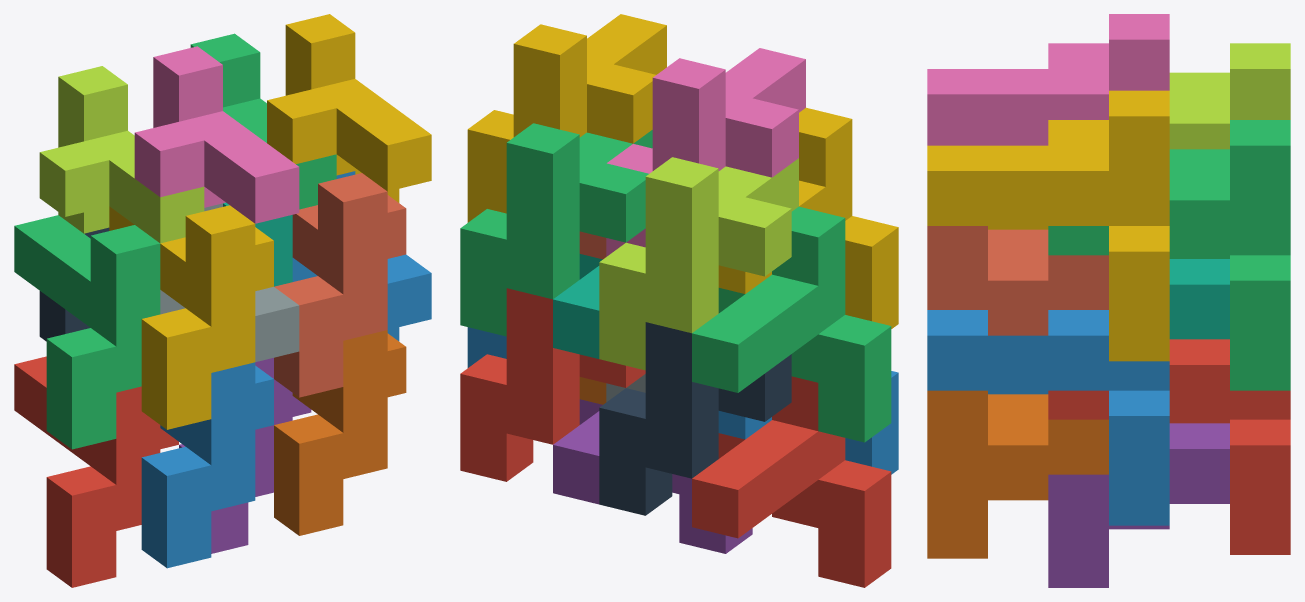
The model's file is tiling.obj.
3 renders of one model, left to right at view 1: azimuth 30°, elevation 25°; view 2: azimuth 150°, elevation 25°; view 3: azimuth 270°, elevation 25°, orthographic. The views are drawn at different scales.
Visible parts, largest first — view 1: copy_1_domain_3, copy_1_domain_4, copy_1_domain_8, copy_2_domain_8, copy_2_domain_4, copy_1_domain_2, copy_1_domain_6, copy_1_domain_1, copy_2_domain_3, copy_2_domain_7, copy_1_domain_5, copy_2_domain_6 (+3 smaller); view 2: copy_2_domain_3, copy_1_domain_3, copy_2_domain_7, copy_1_domain_1, copy_2_domain_8, copy_2_domain_1, copy_2_domain_4, copy_2_domain_5, copy_1_domain_4, copy_1_domain_5, copy_1_domain_7, copy_1_domain_2 (+3 smaller); view 3: copy_2_domain_8, copy_2_domain_7, copy_2_domain_6, copy_1_domain_6, copy_2_domain_4, copy_2_domain_5, copy_1_domain_8, copy_1_domain_5, copy_2_domain_3, copy_1_domain_7.
Boxes of the visible parts, x1,y1,x2,y2 form: copy_1_domain_3: (14,215,160,449); copy_1_domain_4: (109,205,273,429); copy_1_domain_8: (274,173,406,397); copy_2_domain_8: (267,14,431,202); copy_2_domain_4: (134,46,299,223); copy_1_domain_2: (141,362,273,568); copy_1_domain_6: (274,330,406,535); copy_1_domain_1: (14,356,178,587); copy_2_domain_3: (39,66,204,243); copy_2_domain_7: (190,33,336,209); copy_1_domain_5: (179,358,311,553); copy_2_domain_6: (292,171,431,341); copy_2_domain_3: (599,157,798,370); copy_1_domain_3: (692,206,891,442); copy_2_domain_7: (460,123,652,336); copy_1_domain_1: (692,376,891,587); copy_2_domain_8: (467,14,666,222); copy_2_domain_1: (599,322,791,515); copy_2_domain_4: (606,48,805,256); copy_2_domain_5: (460,288,645,481); copy_1_domain_4: (718,107,898,328); copy_1_domain_5: (553,399,752,553); copy_1_domain_7: (553,254,602,358); copy_1_domain_2: (718,371,898,474); copy_2_domain_8: (927,90,1169,361); copy_2_domain_7: (1048,120,1290,390); copy_2_domain_6: (927,310,1169,525); copy_1_domain_6: (927,390,1108,558); copy_2_domain_4: (927,14,1169,145); copy_2_domain_5: (1048,339,1290,554); copy_1_domain_8: (927,226,1108,335); copy_1_domain_5: (1048,423,1229,587); copy_2_domain_3: (1169,43,1290,149); copy_1_domain_7: (1169,259,1229,339).
Bounding box in the file's own units: 8 × 10 × 6.
